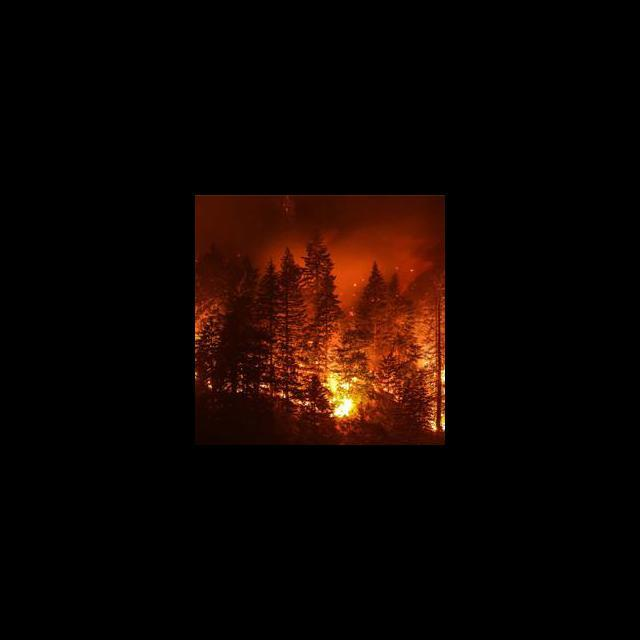Fire: (316, 371, 369, 424), (424, 358, 446, 432)
